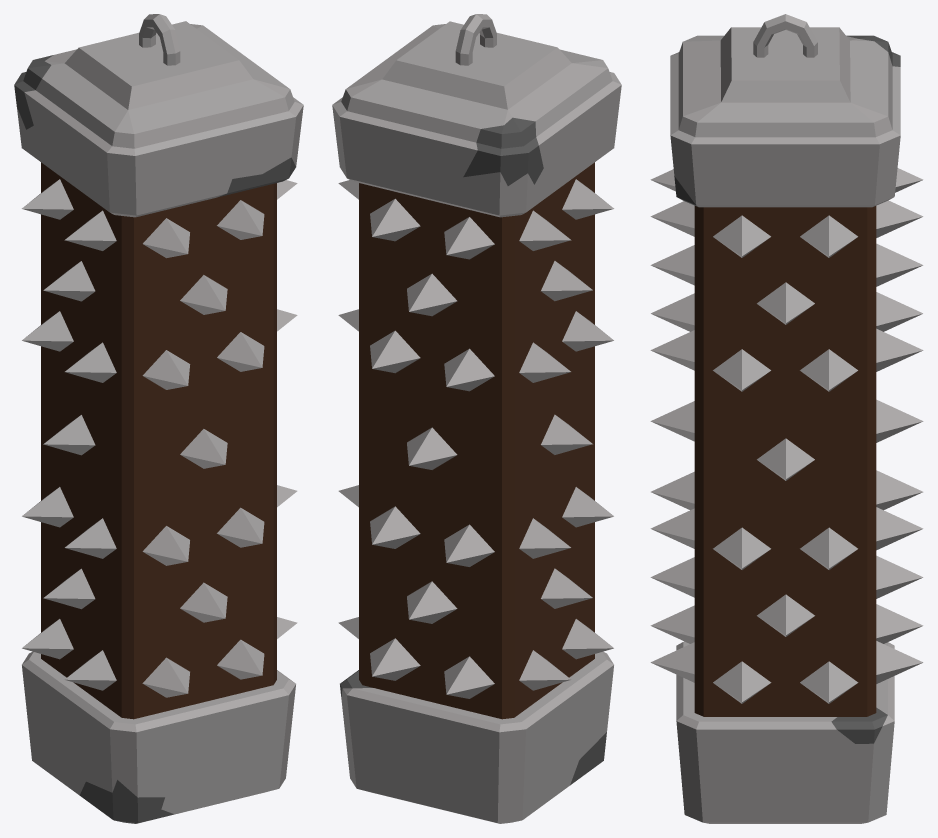
Rendered from WoodenBeamUpright.fbx.
3 renders of one model, left to right at view 1: azimuth 30°, elevation 25°; view 2: azimuth 150°, elevation 25°; view 3: azimuth 270°, elevation 25°, orthographic.
Visible parts, largest first — view 1: WoodenBeamUpright; view 2: WoodenBeamUpright; view 3: WoodenBeamUpright.
Boxes of the visible parts, <box> form: WoodenBeamUpright: <box>14,14,303,823</box>; WoodenBeamUpright: <box>332,14,621,823</box>; WoodenBeamUpright: <box>650,14,923,823</box>.
Bounding box in the file's own units: 57.25 × 183 × 57.25.
